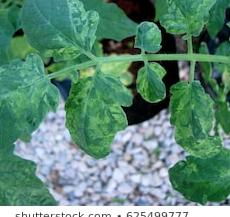Tomato leaf mosaic virus: (62, 70, 134, 159), (0, 56, 59, 150), (18, 0, 100, 65), (169, 81, 225, 157), (168, 145, 230, 202), (150, 0, 217, 47), (134, 62, 167, 109), (131, 21, 161, 56)
